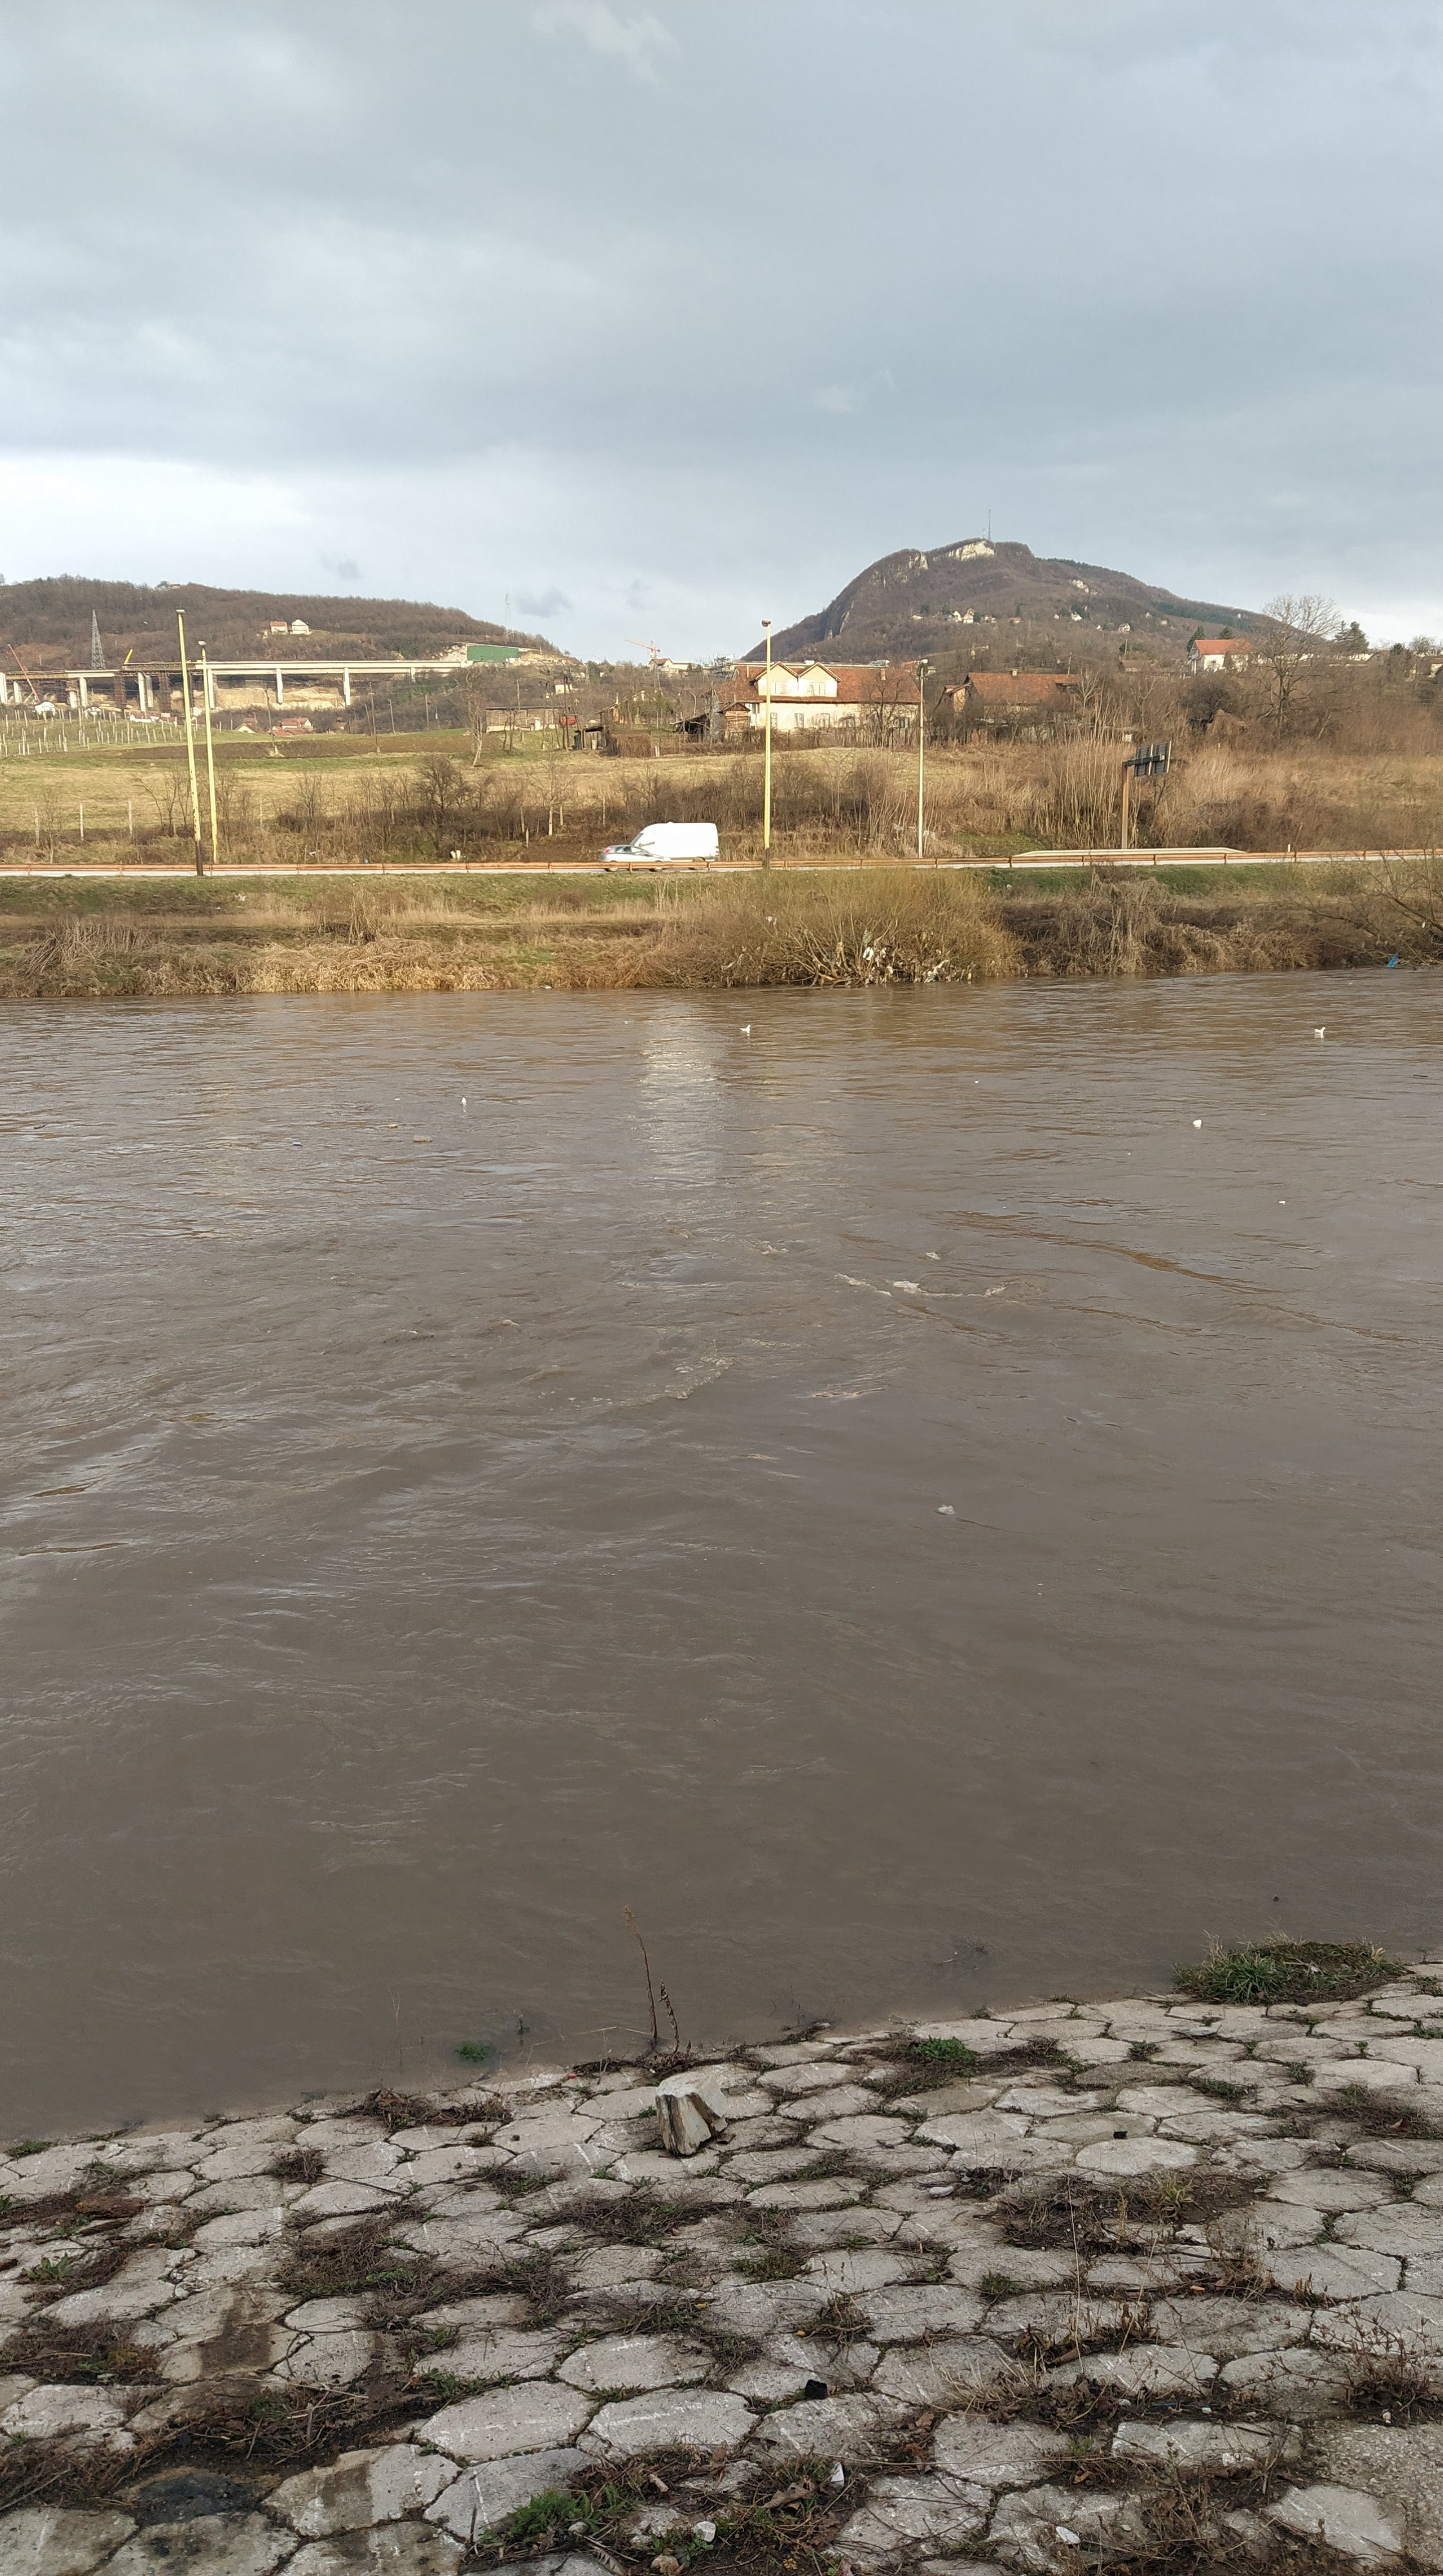Plastic Bottle: (413, 1136, 434, 1141), (34, 1122, 48, 1129), (623, 1019, 632, 1024), (462, 1097, 466, 1106), (292, 1141, 301, 1145), (1193, 1120, 1202, 1123), (390, 1123, 397, 1127), (544, 985, 551, 989)
